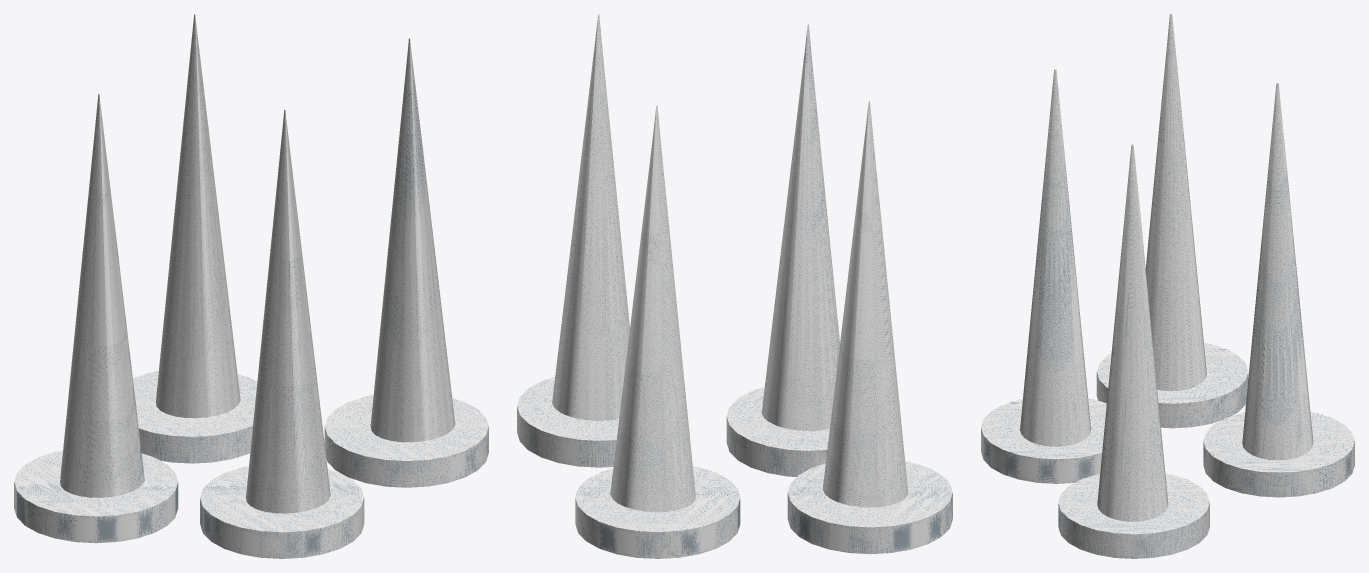
File: nails.fbx
The picture shows the model from 3 angles, left to right: view 1: azimuth 30°, elevation 25°; view 2: azimuth 150°, elevation 25°; view 3: azimuth 270°, elevation 25°; orthographic projection. The views are drawn at different scales.
Parts seen in each view (by area): view 1: Model; view 2: Model; view 3: Model.
Part boxes in pixels (bbox=[...]): Model: bbox=[14, 14, 488, 558]; Model: bbox=[517, 14, 952, 558]; Model: bbox=[981, 14, 1354, 558].
Bounding box in the file's own units: 3922 × 3598 × 3183.
